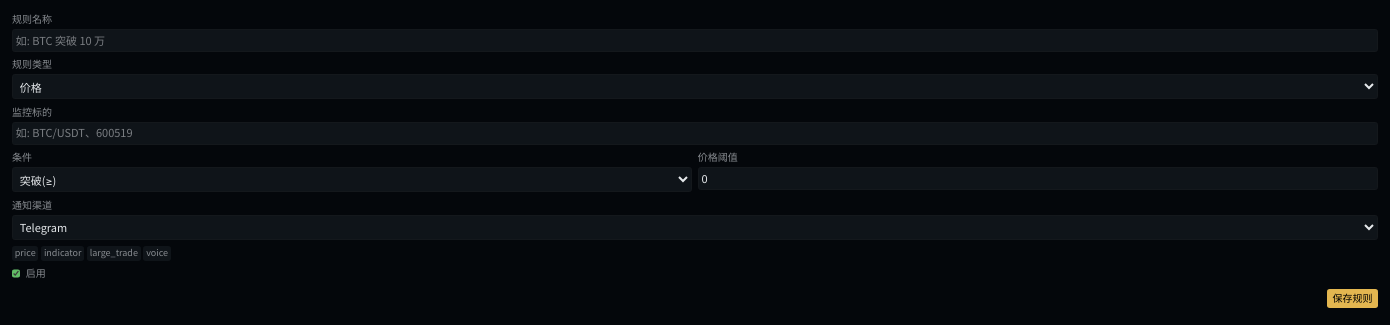
Test: AlertRuleForm(预警规则表单) › type 切换 → 每 type 阈值字段集不同
Expected: the number field labelled "价格阈值" is shown, 698,167 -> 1378,190
Select "指标信号" in the dropdown labelled "规则类型". click: x=695, y=87
box: 12,74 -> 1378,99
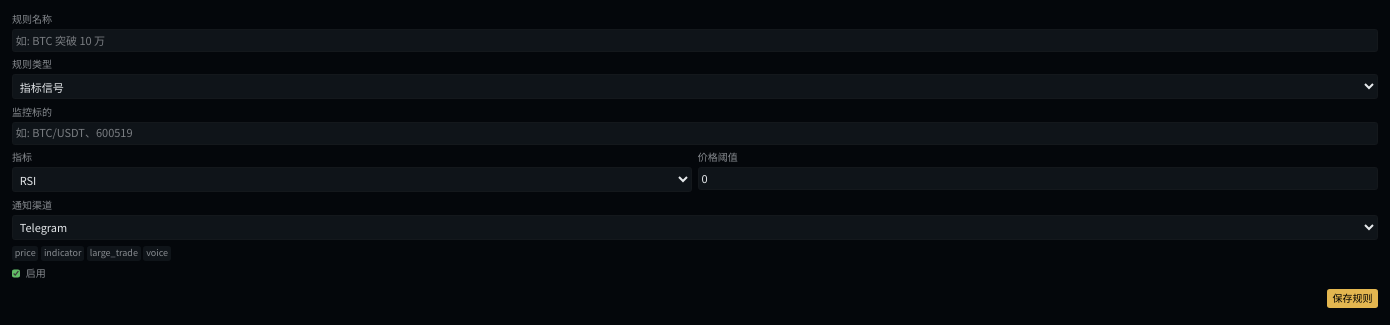
Expected: the number field labelled "阈值" is shown, 698,167 -> 1378,190
Select "大单" in the dropdown labelled "规则类型". click: x=695, y=87
box: 12,74 -> 1378,99
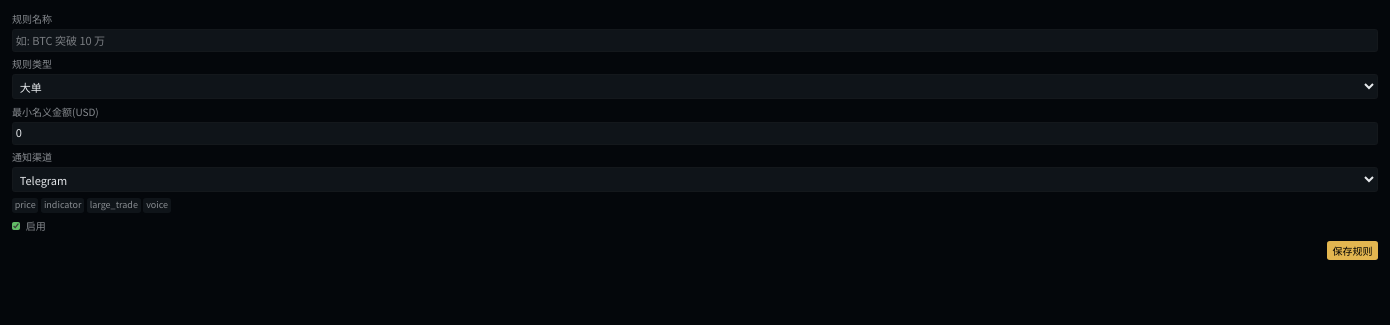
Expected: the number field labelled "最小名义金额(USD)" is shown, 12,122 -> 1378,144
Select "语音" in the dropdown labelled "规则类型". click: x=695, y=87
box: 12,74 -> 1378,99
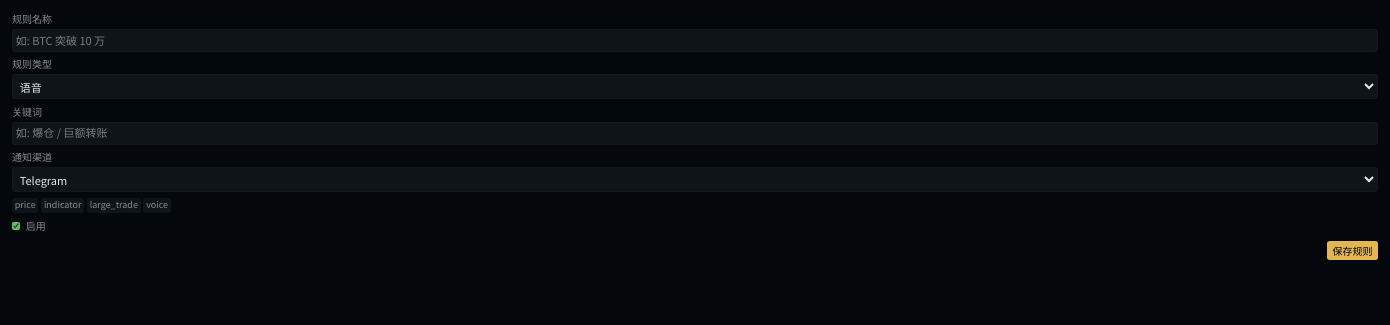
Expected: the field labelled "关键词" is shown, 12,122 -> 1378,144
